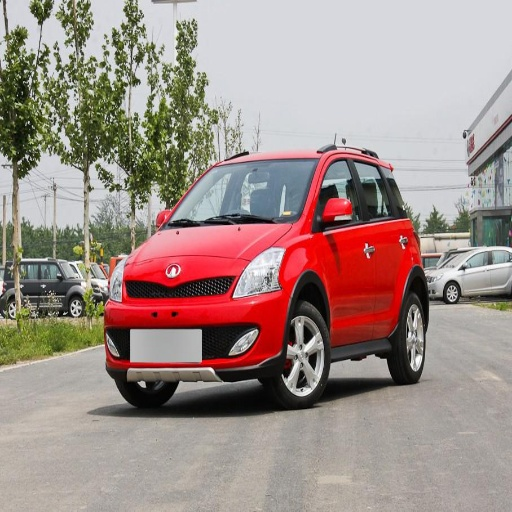front_bumper: (112, 257, 292, 382)
front_glass: (163, 160, 315, 227)
front_left_door: (314, 153, 375, 341)
